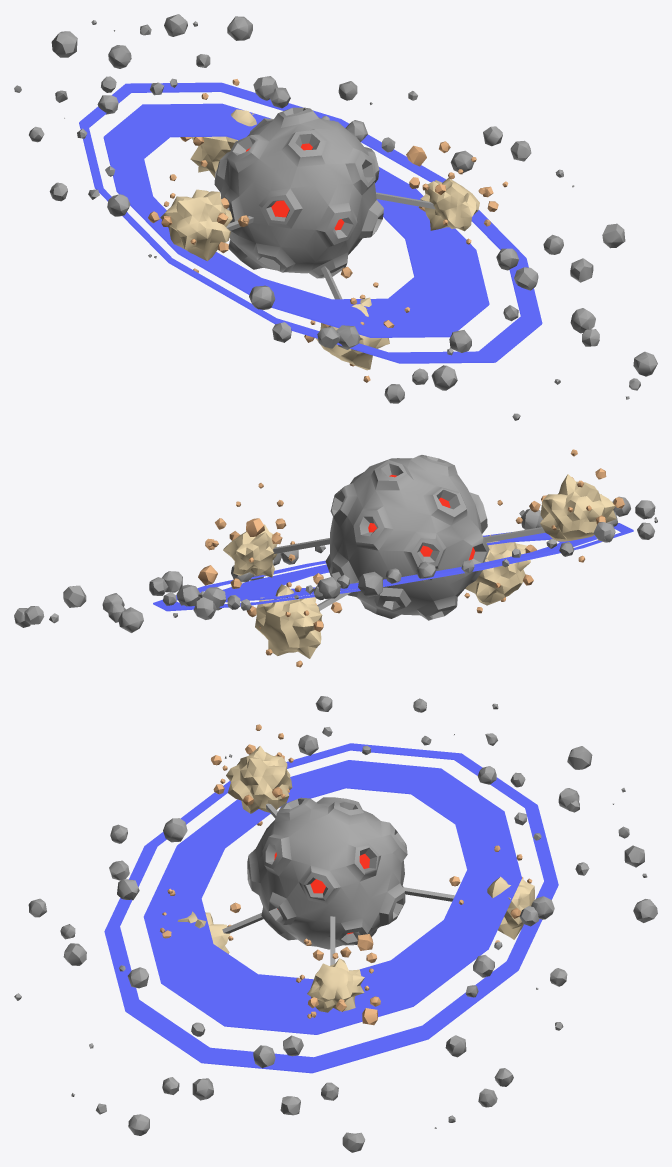
Rendered from planet_shi.fbx.
3 renders of one model, top to bottom at view 1: azimuth 30°, elevation 25°; view 2: azimuth 150°, elevation 25°; view 3: azimuth 270°, elevation 25°, orthographic. The views are drawn at different scales.
Visible parts, largest first — view 1: pCube5; view 2: pCube5; view 3: pCube5.
Boxes of the visible parts, box(x1,y1,x2,y2) form: pCube5: box(14, 14, 657, 420); pCube5: box(14, 449, 657, 667); pCube5: box(14, 696, 657, 1152).
Bounding box in the file's own units: 260 × 109 × 267.
